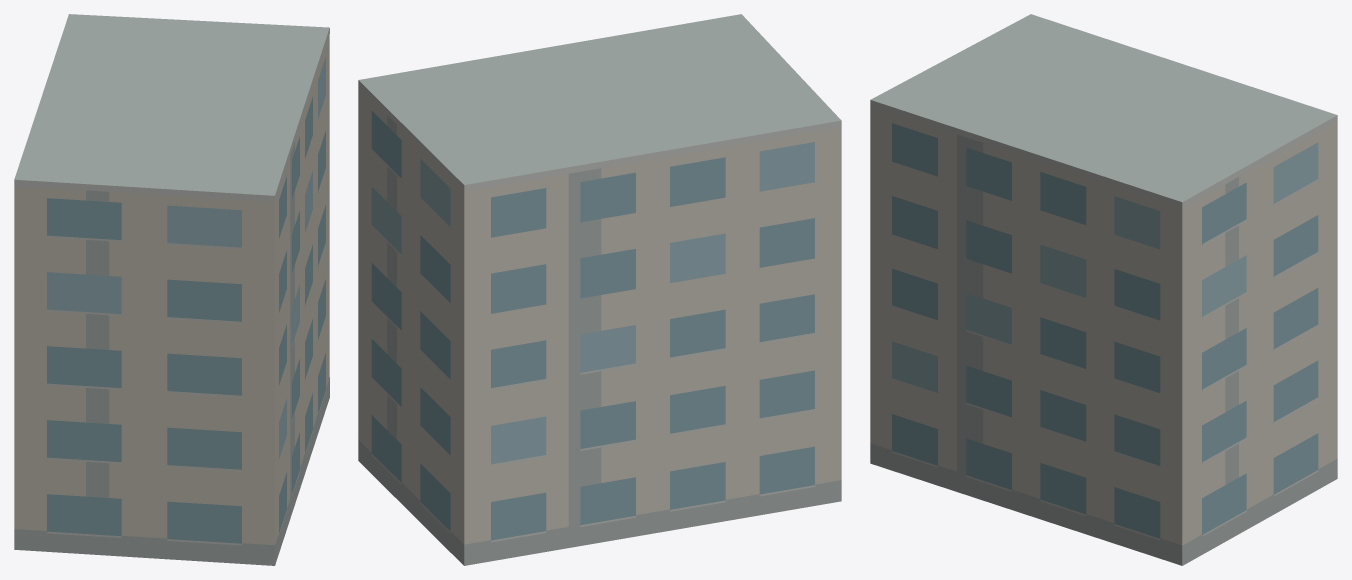
Rendered from survey-upis-32826139.glb.
3 renders of one model, left to right at view 1: azimuth 30°, elevation 25°; view 2: azimuth 150°, elevation 25°; view 3: azimuth 270°, elevation 25°, orthographic. The views are drawn at different scales.
Visible parts, largest first — view 1: survey-upis-32826139.tmp; view 2: survey-upis-32826139.tmp; view 3: survey-upis-32826139.tmp.
Part boxes in pixels (x1,y1,x2,y2): survey-upis-32826139.tmp: (14, 14, 329, 565); survey-upis-32826139.tmp: (358, 14, 841, 565); survey-upis-32826139.tmp: (870, 14, 1337, 565).
Bounding box in the file's own units: 15.88 × 14.3 × 16.66.
